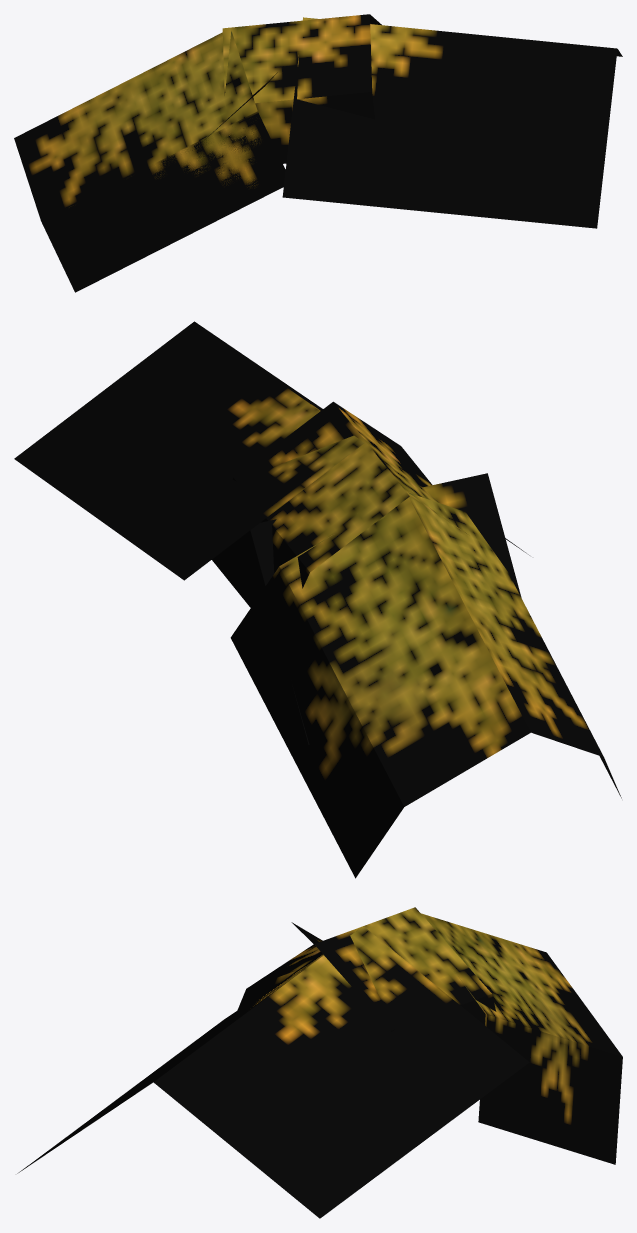
Rendered from larch_leaves_slab_diagonal_3.obj.
3 views of the same model, one above another, from view 1: azimuth 30°, elevation 25°; view 2: azimuth 150°, elevation 25°; view 3: azimuth 270°, elevation 25° (orthographic). The views are drawn at different scales.
Parts seen in each view (by area): view 1: plane; view 2: plane, cube; view 3: plane.
Boxes of the visible parts, x1,y1,x2,y2 form: plane: (14, 14, 622, 292); plane: (14, 321, 621, 878); cube: (250, 473, 521, 744); plane: (17, 907, 622, 1218).
Bounding box in the file's own units: 2.9 × 1.34 × 2.43.
